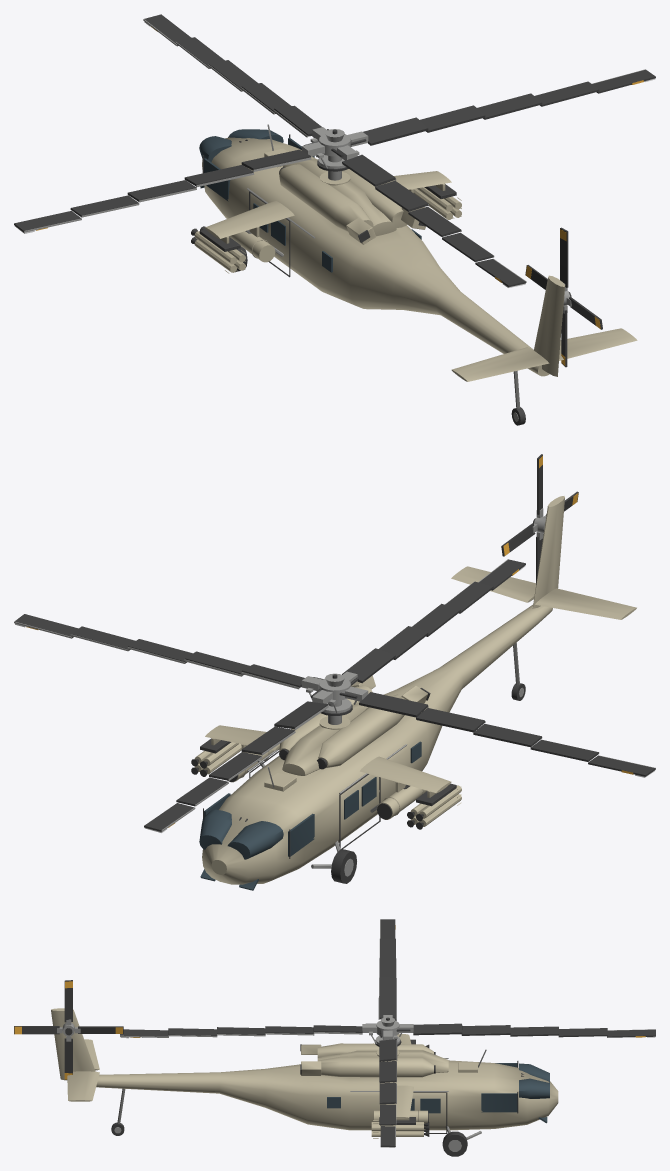
File: usa_heli_dap.glb
3 views of the same model, one above another, from view 1: azimuth 30°, elevation 25°; view 2: azimuth 150°, elevation 25°; view 3: azimuth 270°, elevation 25° (orthographic). The views are drawn at different scales.
Parts seen in each view (by area): view 1: body, rotor, trotor; view 2: body, rotor, trotor; view 3: body, rotor, trotor.
Boxes of the visible parts, x1,y1,x2,y2 form: body: [191, 124, 637, 425]; rotor: [14, 14, 655, 287]; trotor: [525, 227, 602, 367]; body: [191, 496, 636, 890]; rotor: [14, 559, 655, 832]; trotor: [501, 454, 578, 584]; body: [51, 1008, 558, 1156]; rotor: [120, 919, 655, 1147]; trotor: [14, 980, 123, 1080].
Size of the model in its own units: 16.37 by 5.37 by 19.61.
